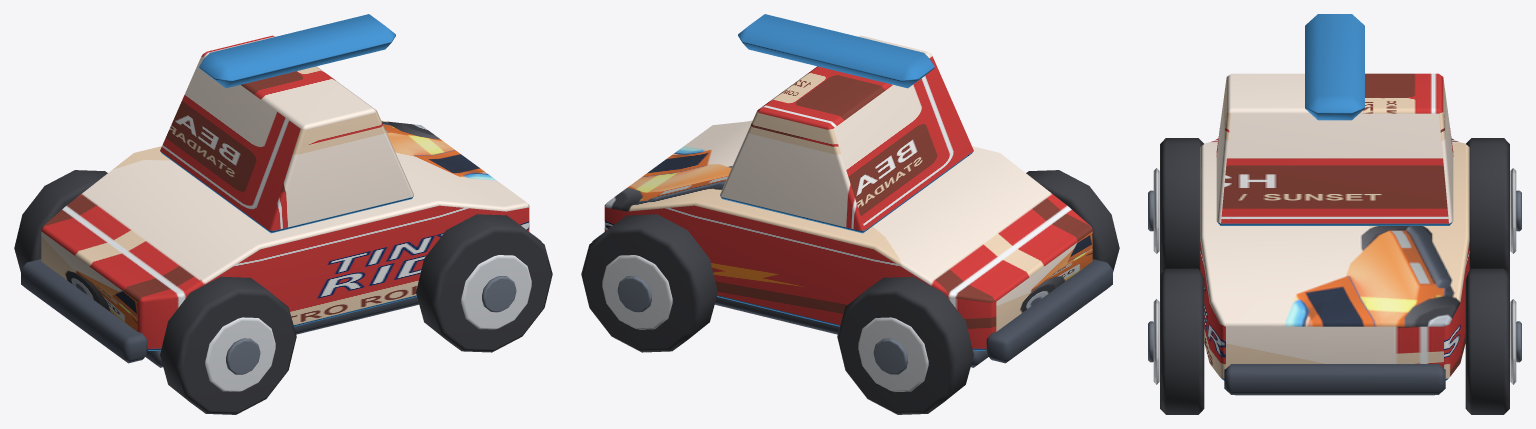
The picture shows the model from 3 angles, left to right: view 1: azimuth 30°, elevation 25°; view 2: azimuth 150°, elevation 25°; view 3: azimuth 270°, elevation 25°; orthographic projection. The views are drawn at different scales.
Visible parts, largest first — view 1: RR-03_connected_shell, RR-03_cabin, Tire.002, Tire, beach surfboard, front bumper, Rim.002, Rim, Tire.001, underbody, Hub, Hub.002; view 2: RR-03_connected_shell, RR-03_cabin, Tire.003, Tire.001, beach surfboard, front bumper, Rim.003, Rim.001, Tire, underbody, Hub.001, Hub.003; view 3: RR-03_connected_shell, RR-03_cabin, rear bumper, Tire.002, Tire.003, beach surfboard, Tire, Tire.001, Rim, Rim.001, Rim.002, Rim.003.
Part boxes in pixels (x1,y1,x2,y2): RR-03_connected_shell: (41,120,529,350); RR-03_cabin: (160,35,413,233); Tire.002: (416,214,552,352); Tire: (160,276,296,414); beach surfboard: (199,14,395,88); front bumper: (21,259,147,363); Rim.002: (461,255,531,329); Rim: (205,317,275,391); Tire.001: (14,170,107,271); underbody: (145,297,418,367); Hub: (226,338,260,374); Hub.002: (482,276,516,312); RR-03_connected_shell: (604,120,1092,350); RR-03_cabin: (720,35,973,233); Tire.003: (581,214,717,352); Tire.001: (837,276,973,414); beach surfboard: (738,14,934,88); front bumper: (986,259,1112,363); Rim.003: (602,255,672,329); Rim.001: (858,317,928,391); Tire: (1026,170,1119,271); underbody: (715,297,988,367); Hub.001: (873,338,907,374); Hub.003: (617,276,651,312); RR-03_connected_shell: (1200,138,1469,380); RR-03_cabin: (1216,73,1453,225); rear bumper: (1224,364,1445,394); Tire.002: (1160,268,1204,414); Tire.003: (1465,268,1509,414); beach surfboard: (1305,14,1364,120); Tire: (1160,138,1203,274); Tire.001: (1466,138,1509,274); Rim: (1153,168,1159,253); Rim.001: (1510,168,1516,253); Rim.002: (1153,299,1159,384); Rim.003: (1510,299,1516,384).
Size of the model in its own units: 298 by 191 by 219.
